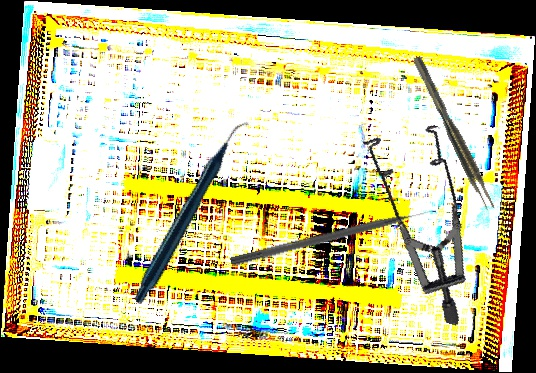Handpiece: (87, 120, 299, 306)
Pusher: (229, 205, 439, 269)
Speculum: (318, 105, 514, 327)
Tissue Forceps: (412, 53, 497, 213)
